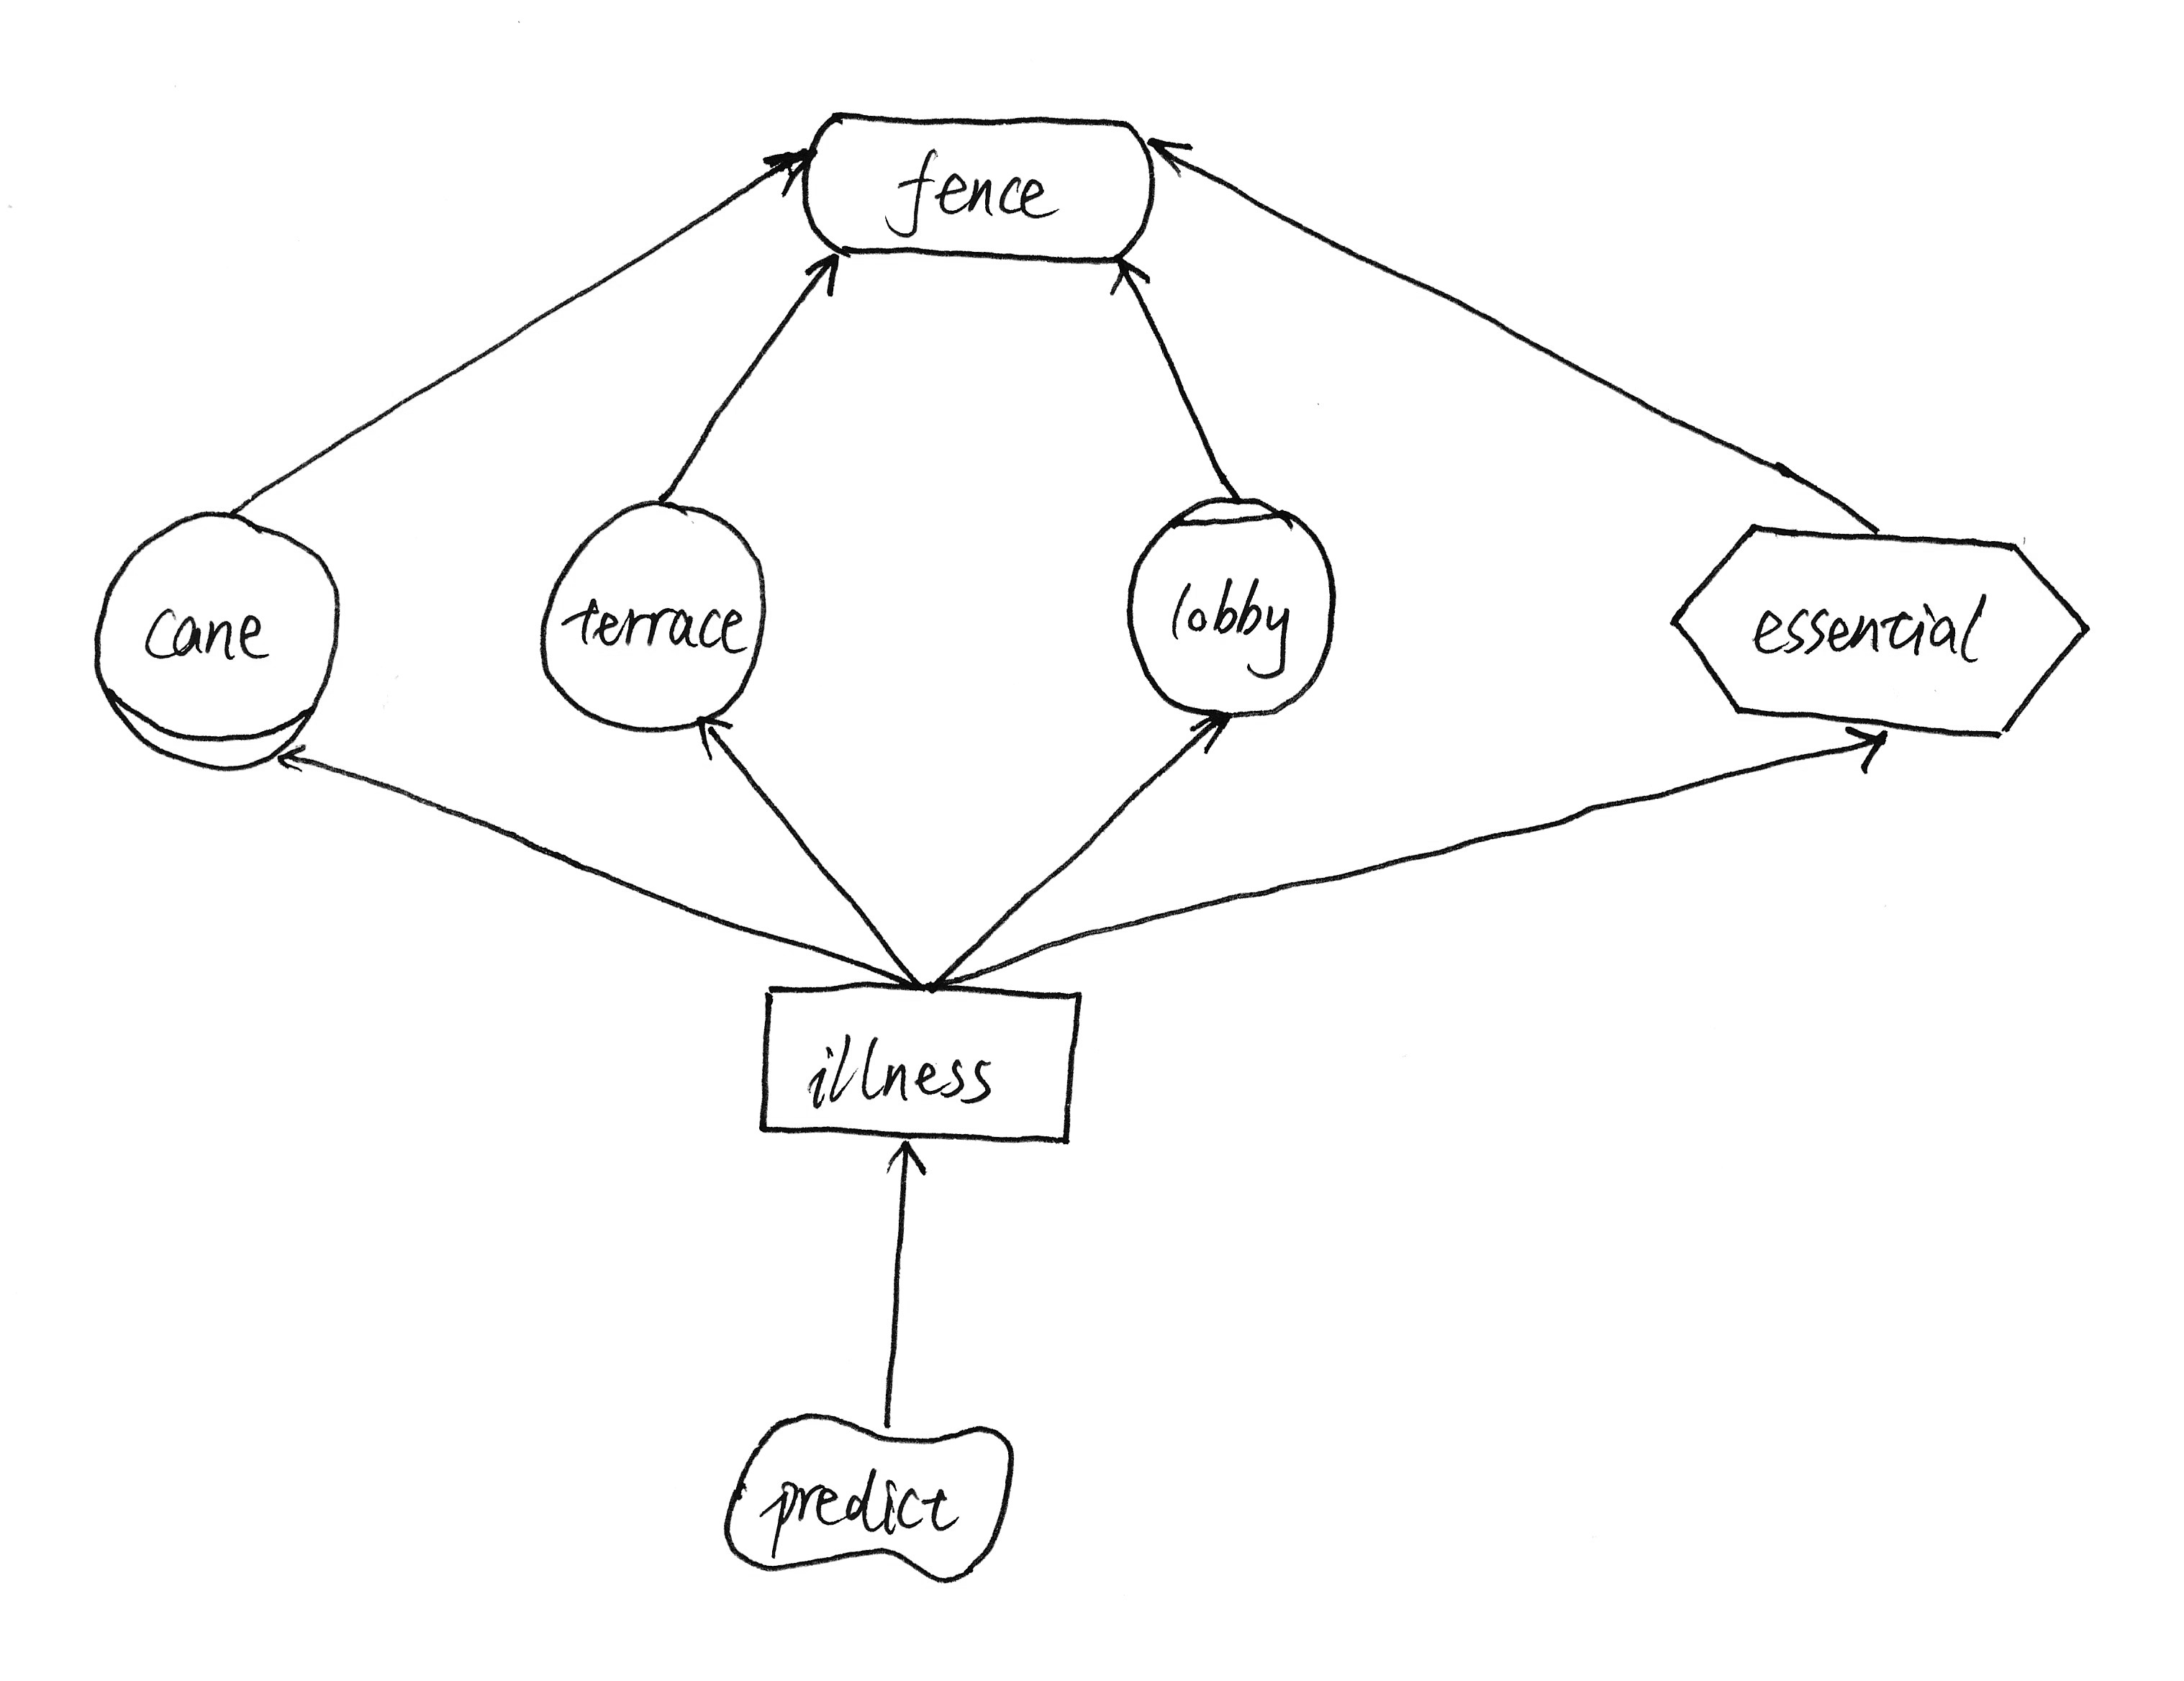actor: (530, 486, 779, 747)
agent: (1112, 480, 1351, 733)
arrow: (1815, 720, 1905, 802), (1137, 106, 1211, 196), (743, 139, 825, 203), (1105, 251, 1171, 323), (791, 253, 849, 314), (879, 1134, 934, 1195), (685, 712, 742, 766), (1178, 708, 1236, 759), (272, 740, 321, 782)
goal: (795, 88, 1164, 275)
quality: (712, 1400, 1031, 1600)
resource: (745, 966, 1107, 1164)
role: (78, 501, 344, 782)
task: (1653, 501, 2103, 758)
